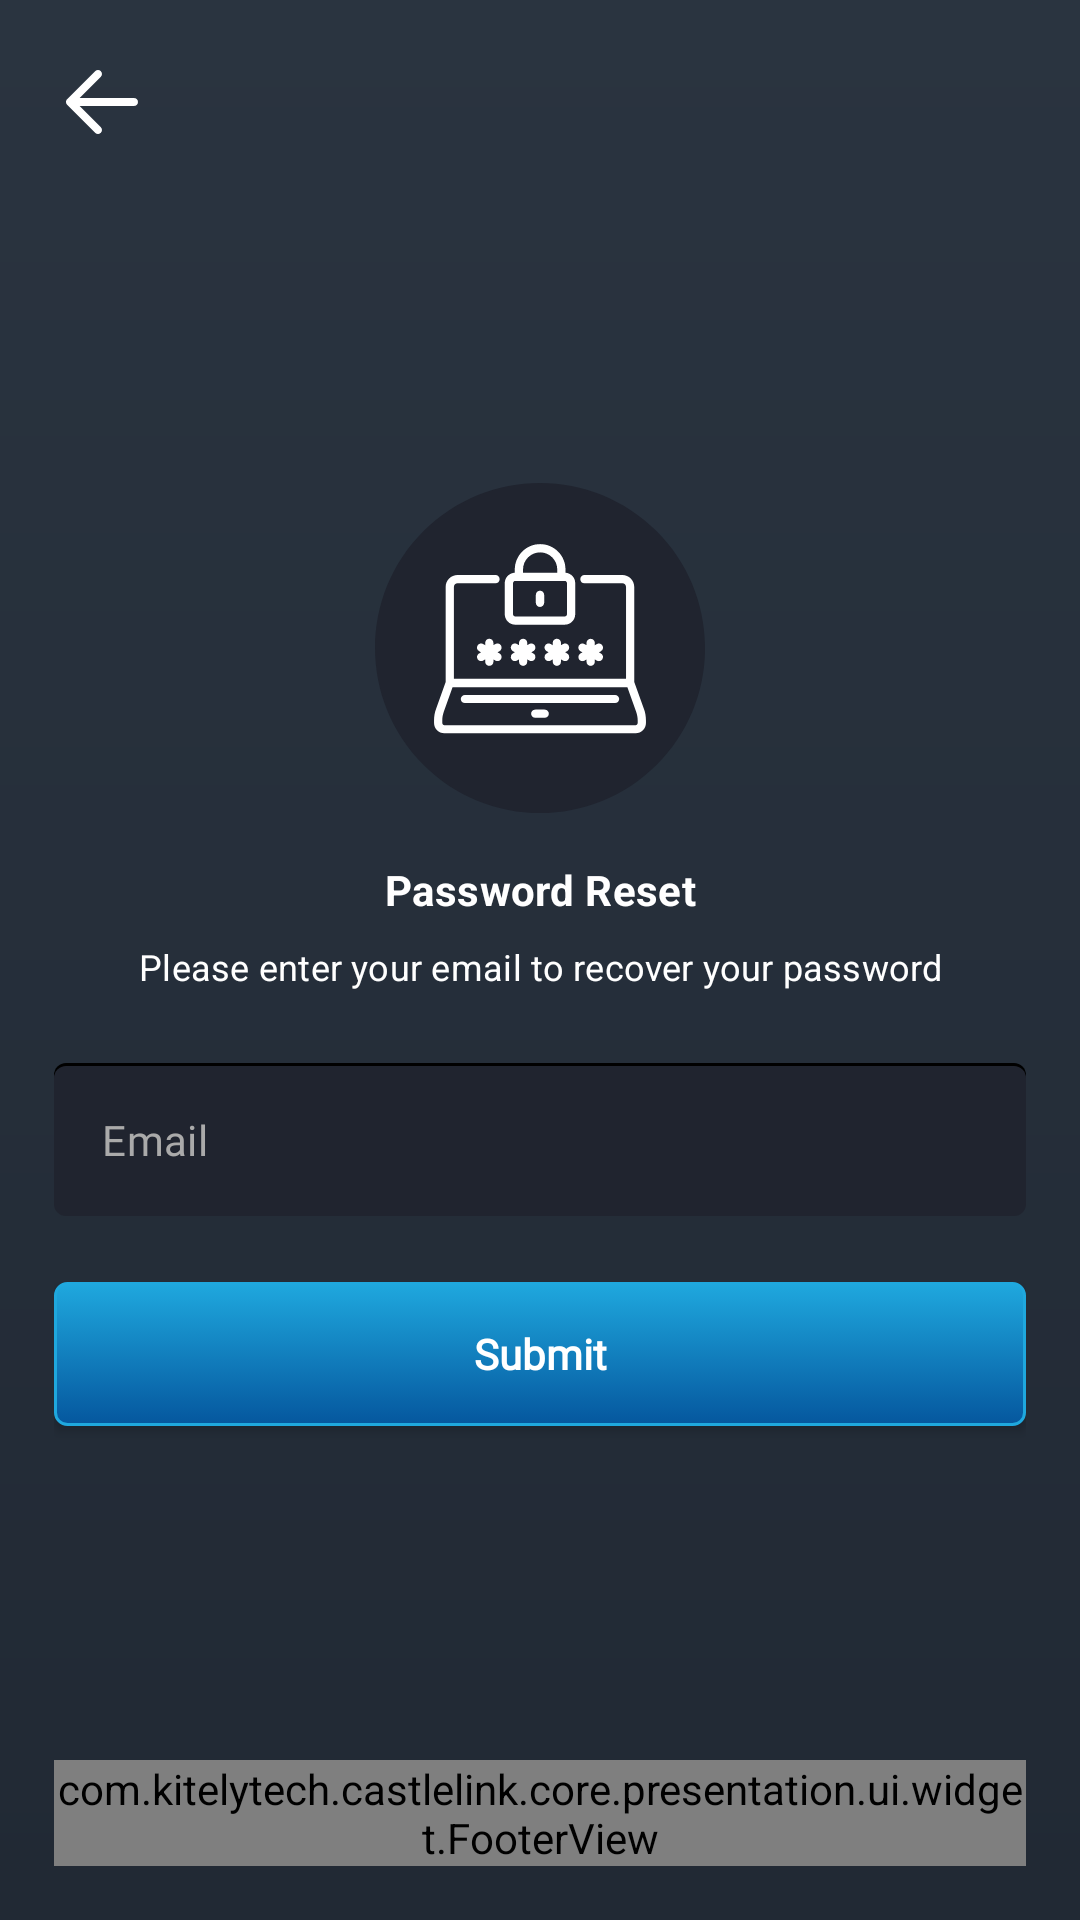

Icon click points for this 1080×1920 phone screenshot, format [x,y]:
back arrow: [102,102]
